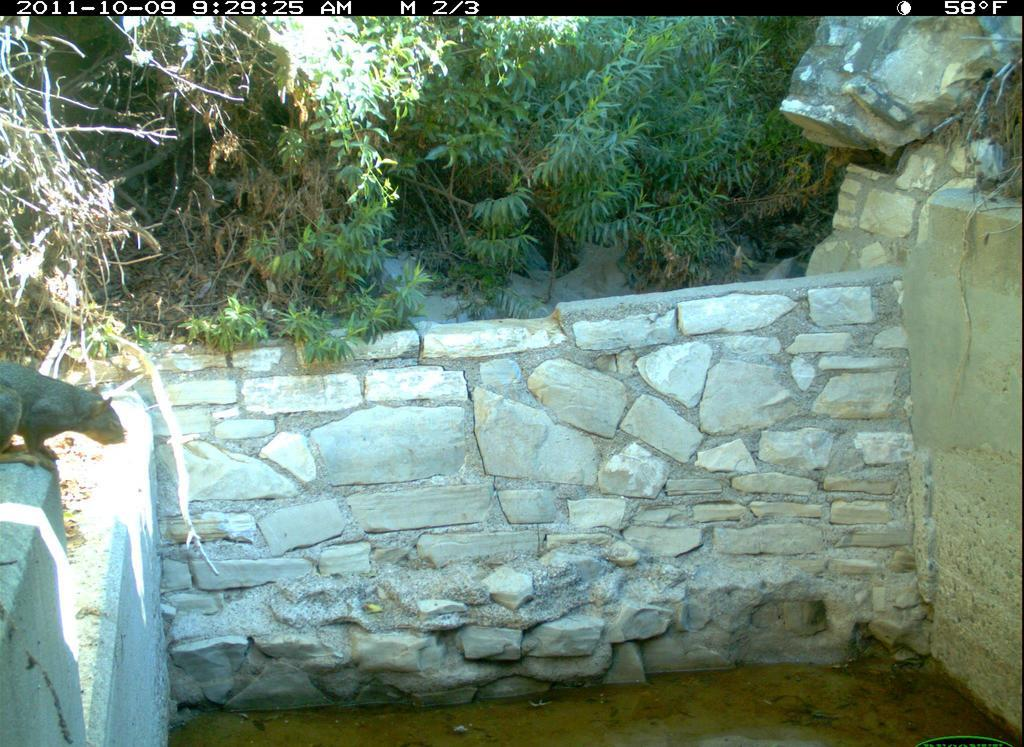squirrel: (1, 361, 132, 479)
